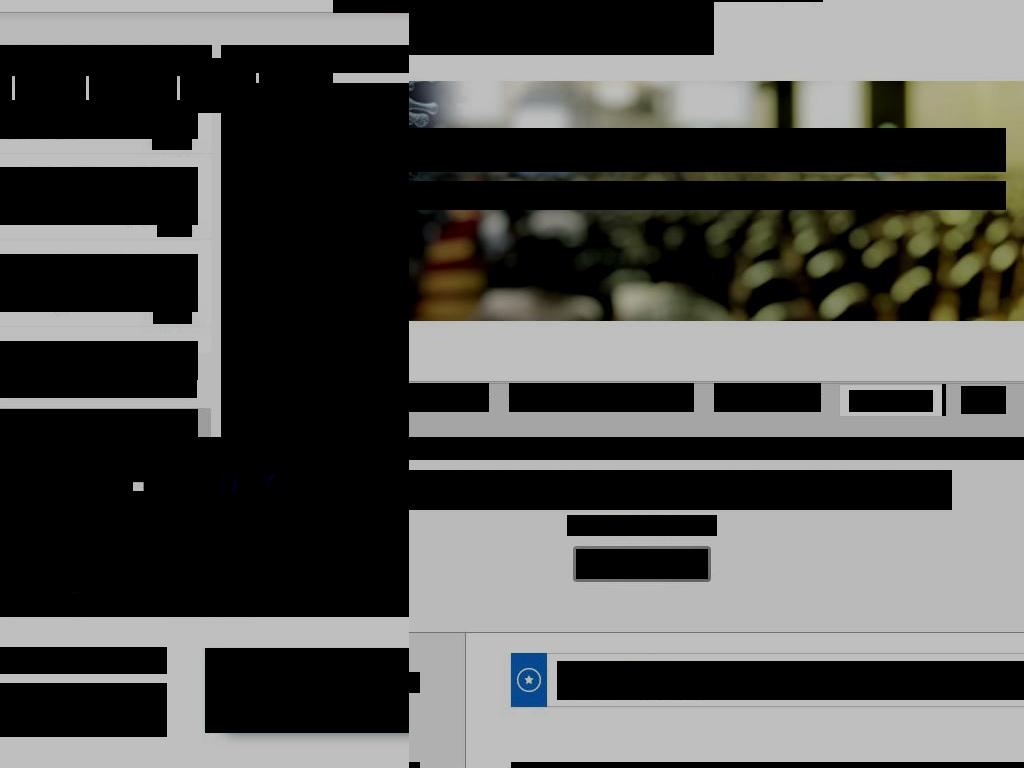button: (205, 648, 409, 733), (0, 167, 198, 225), (0, 254, 198, 312), (0, 100, 198, 139), (0, 341, 198, 380), (0, 367, 197, 398), (0, 409, 198, 437), (509, 383, 694, 412), (89, 58, 177, 113), (180, 58, 256, 113), (259, 58, 333, 113), (576, 549, 708, 579), (15, 58, 86, 113), (245, 113, 313, 168), (567, 515, 717, 536), (714, 383, 821, 412), (409, 383, 489, 412), (961, 386, 1006, 414), (333, 0, 383, 13)
field: (849, 390, 933, 412)
heading: (409, 128, 1006, 172), (409, 181, 1006, 210), (409, 437, 1024, 460), (0, 167, 198, 225), (0, 254, 198, 312), (0, 100, 198, 139), (0, 341, 198, 380), (0, 409, 198, 437), (0, 647, 167, 674)
iframe: (221, 83, 409, 437)
image: (409, 0, 714, 55), (0, 45, 212, 76), (977, 393, 990, 407), (677, 519, 689, 531)
label: (511, 762, 1024, 768)
link: (627, 661, 690, 681)
text: (0, 491, 409, 592), (409, 470, 952, 510), (557, 661, 1024, 700), (205, 648, 409, 733), (0, 683, 167, 737), (221, 45, 409, 73), (509, 386, 680, 409), (714, 386, 807, 409), (595, 515, 672, 536), (409, 386, 475, 409), (557, 661, 627, 681), (6, 413, 58, 433), (152, 136, 192, 150), (153, 310, 192, 324), (157, 223, 192, 237), (158, 377, 192, 391), (942, 384, 946, 416)
